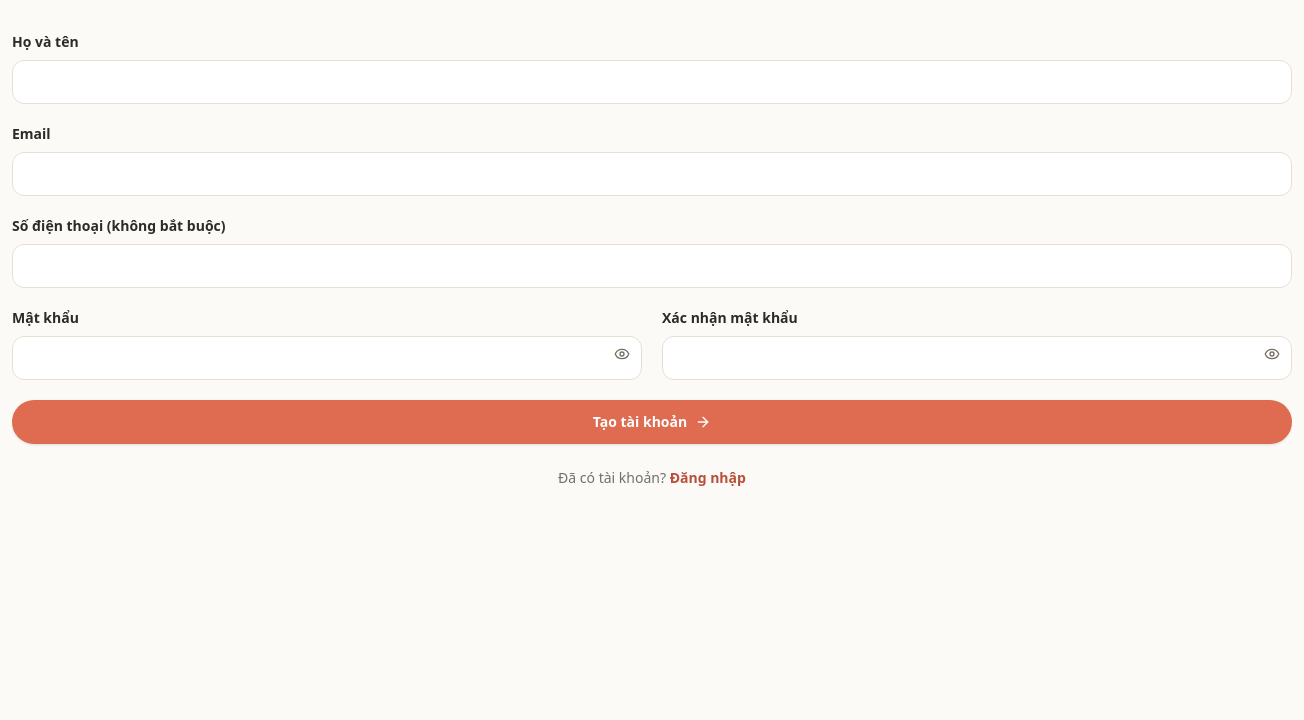
Test case: RegisterForm › shows a generic conflict without confirming email existence
The image size is (1304, 720).
Type "  Test User  " into the field labelled "Họ và tên" at (652, 82), box 12,60 -> 1292,104
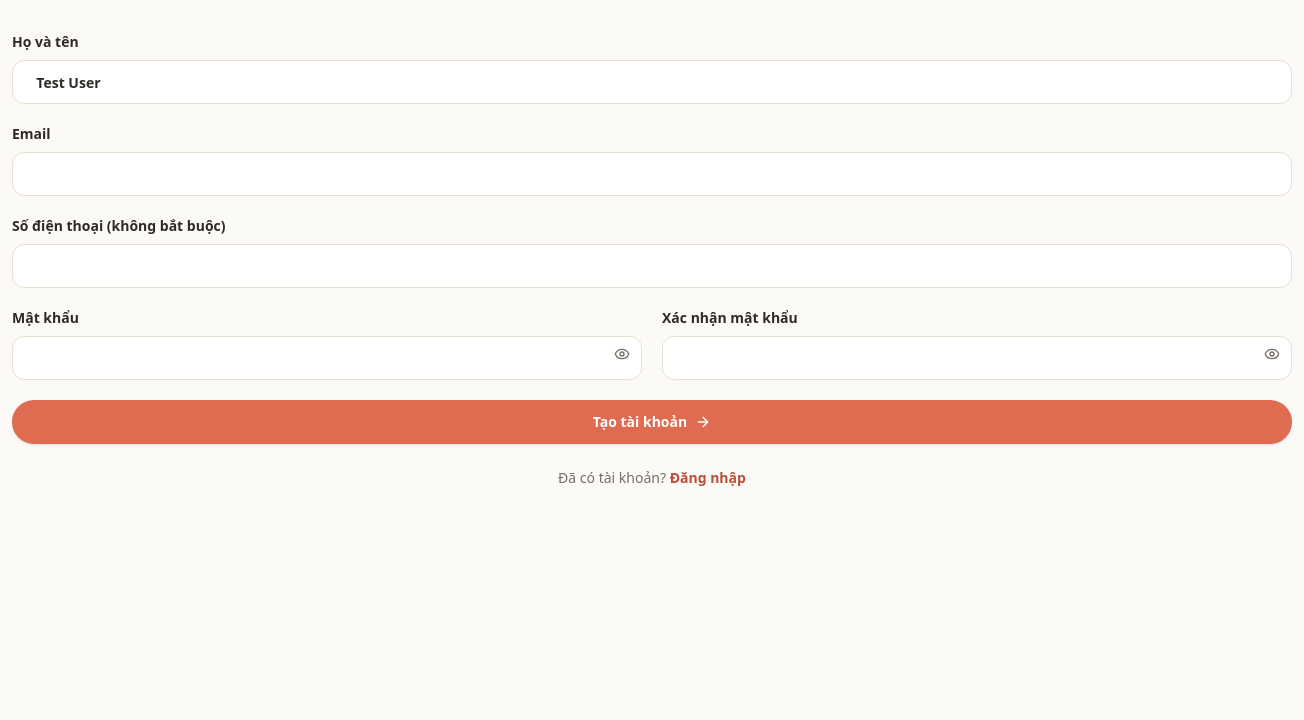
Type " user@example.com " into the field labelled "Email" at (652, 174), box 12,152 -> 1292,196
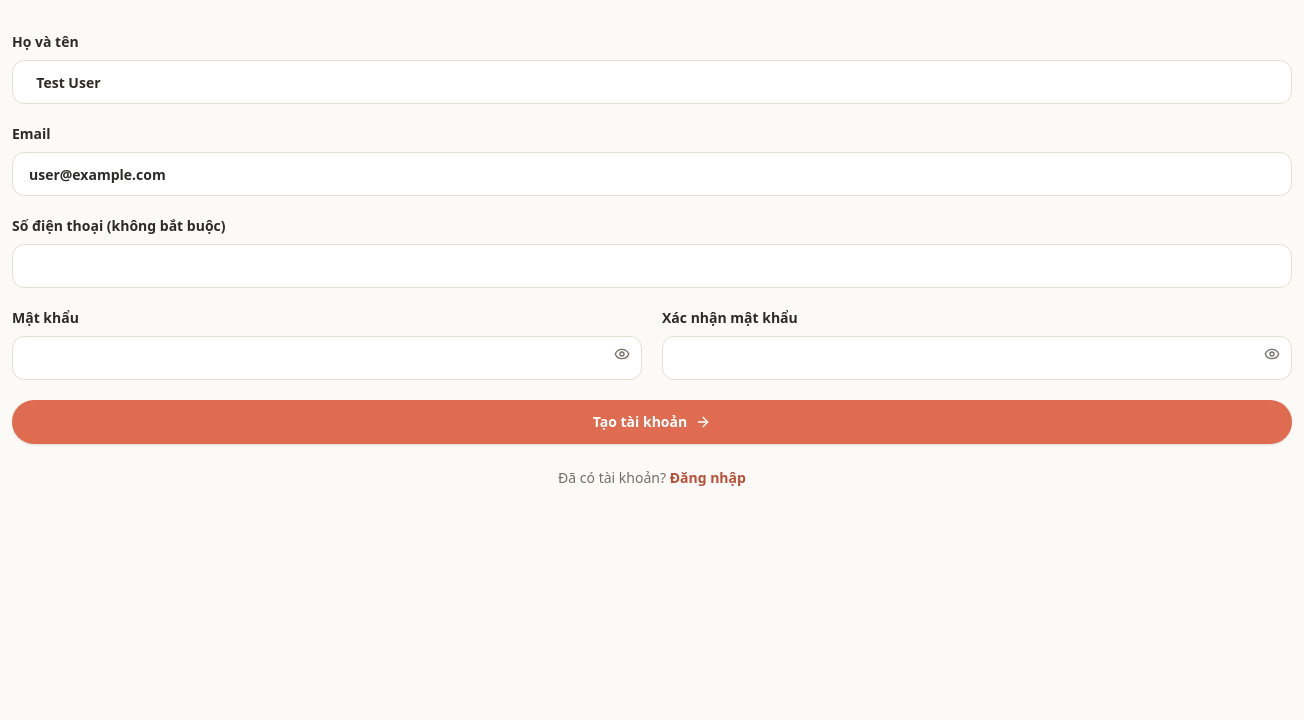
Type "+84 901-234-567" into the field labelled "Số điện thoại (không bắt buộc)" at (652, 266), box 12,244 -> 1292,288
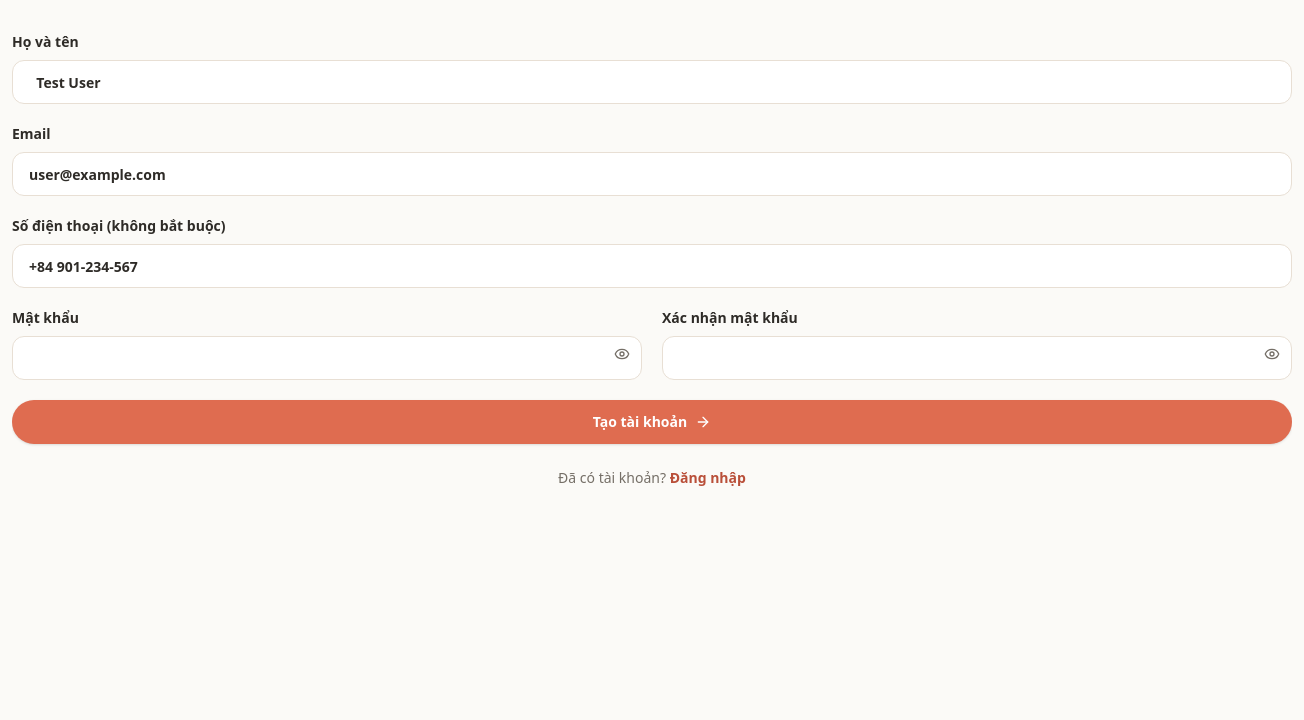
Type "a sufficiently long password" into the password field labelled "Mật khẩu" at (327, 358), box 12,336 -> 642,380
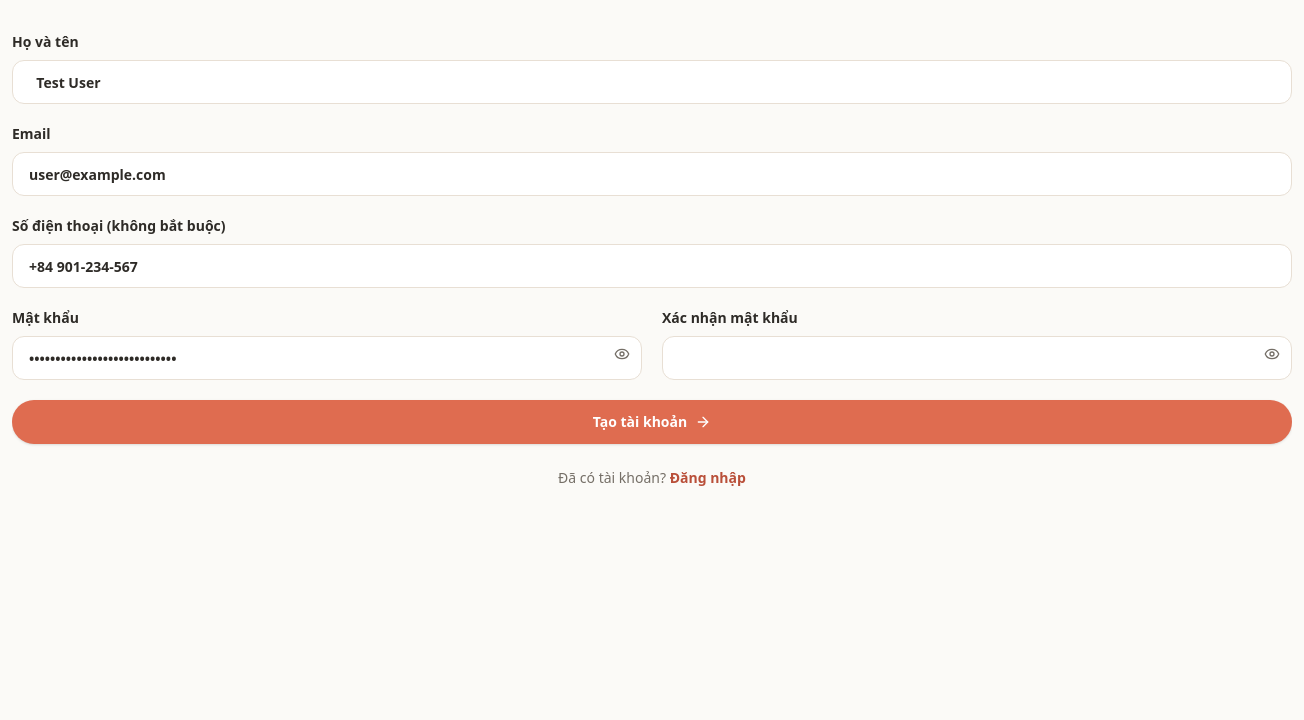
Type "a sufficiently long password" into the password field labelled "Xác nhận mật khẩu" at (977, 358), box 662,336 -> 1292,380
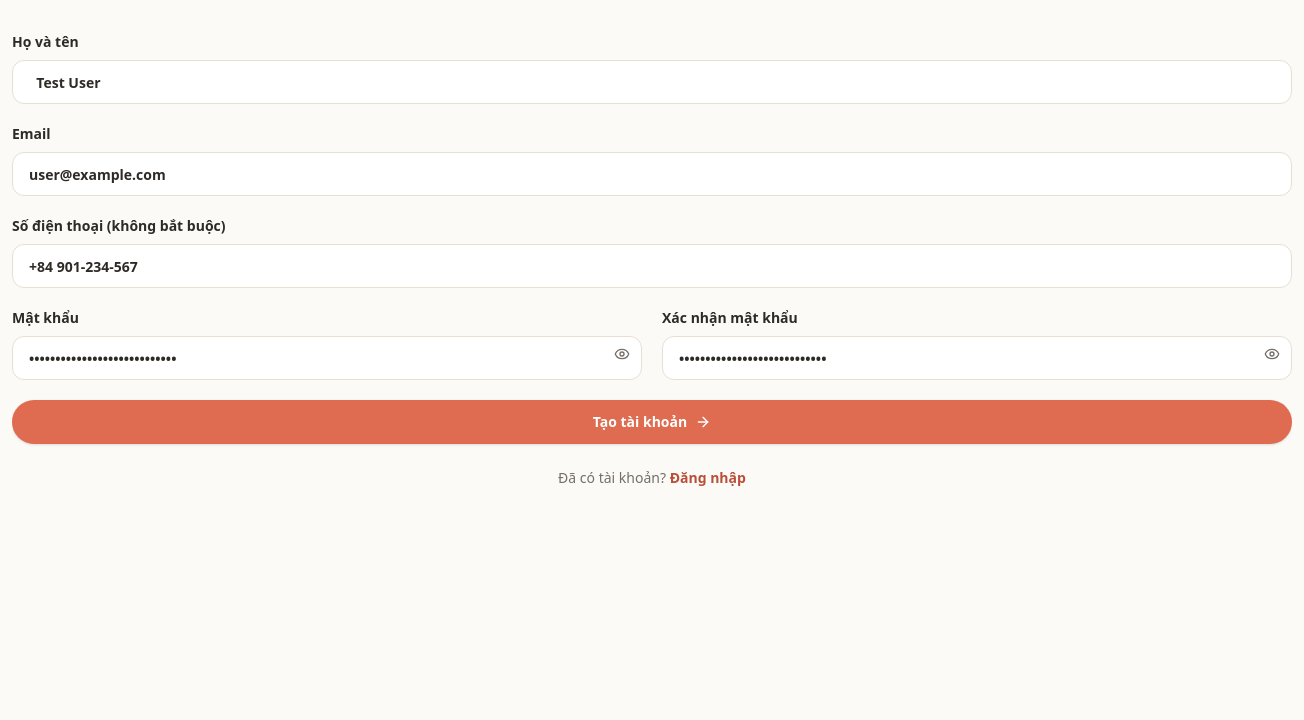
Submit the form named "Tạo tài khoản", box 12,32 -> 1292,444
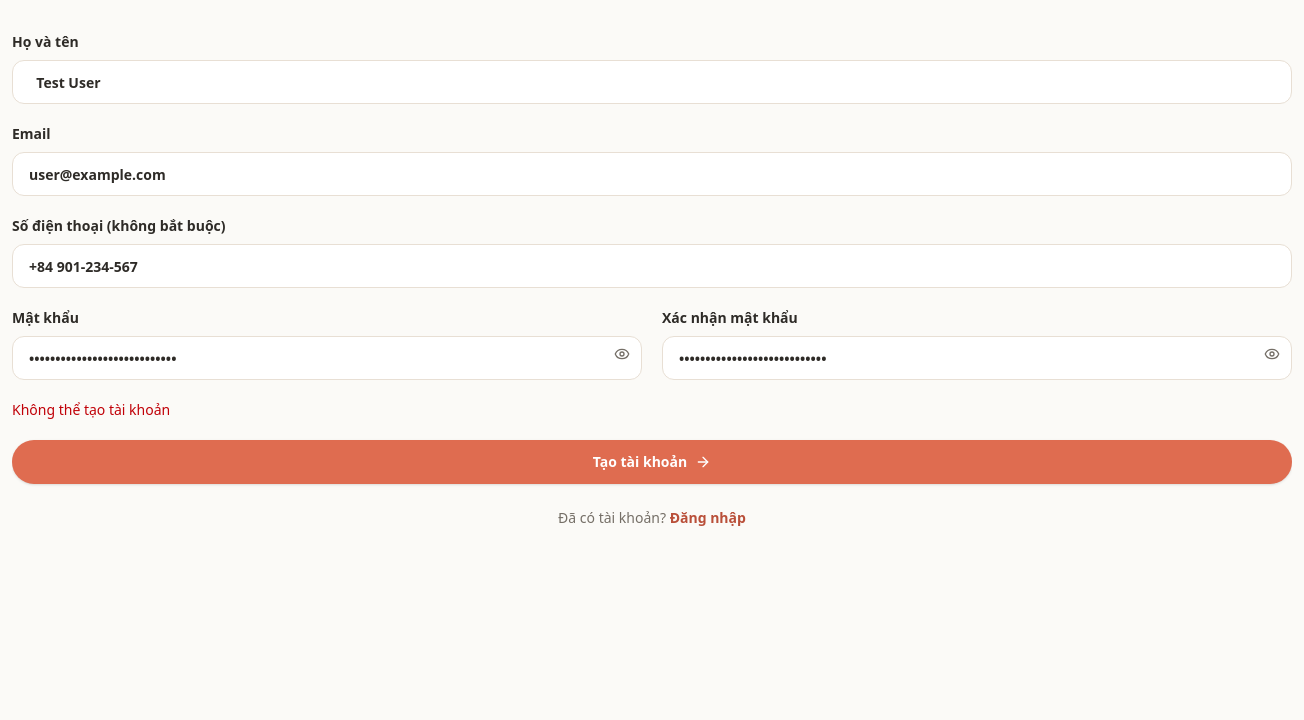
Expected: the message does not show "đã tồn tại", 12,400 -> 170,419
Expected: the message reads "Không thể tạo tài khoản", 12,400 -> 170,419
